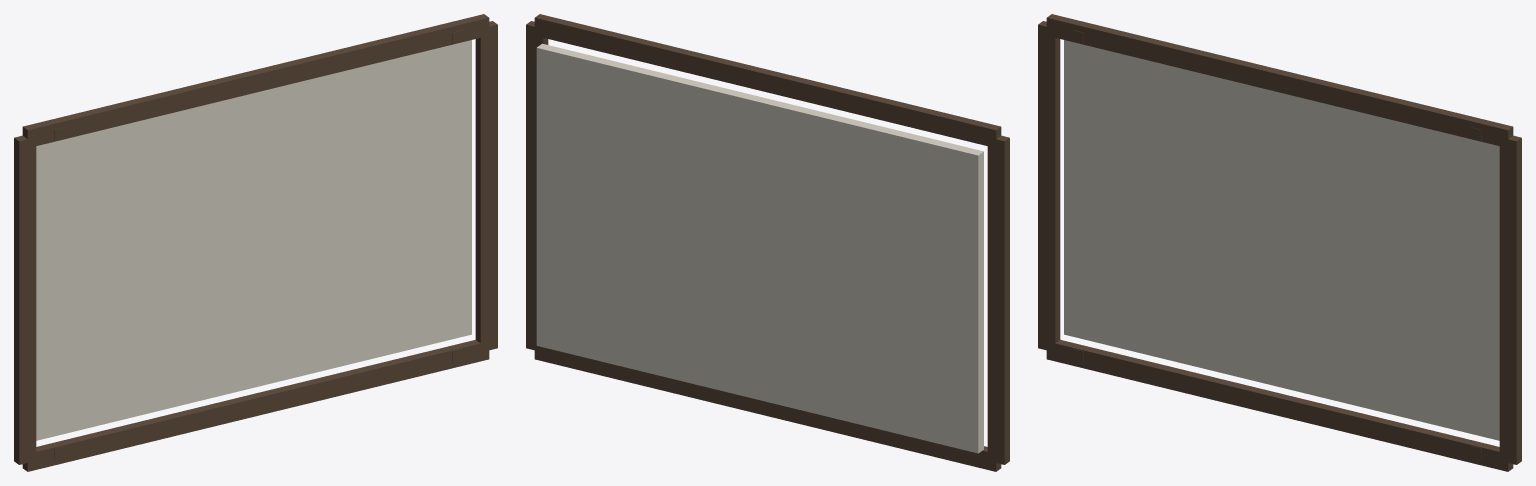
3 views of the same model, side by side, from view 1: azimuth 30°, elevation 25°; view 2: azimuth 150°, elevation 25°; view 3: azimuth 330°, elevation 25° (orthographic).
Visible parts, largest first — view 1: information-back, doorplate-outer-bottom, doorplate-outer-top, doorplate-outer-left, doorplate-outer-right, doorplate-step-top; view 2: information-back, doorplate-outer-top, doorplate-outer-left, doorplate-outer-bottom, doorplate-step-top, doorplate-outer-right; view 3: information-back, doorplate-outer-bottom, doorplate-outer-top, doorplate-outer-left, doorplate-outer-right, doorplate-step-top.
Part boxes in pixels (left/top/right/bottom): information-back: left=36, top=40, right=471, bottom=440; doorplate-outer-bottom: left=22, top=340, right=489, bottom=471; doorplate-outer-top: left=22, top=14, right=489, bottom=147; doorplate-outer-left: left=14, top=135, right=36, bottom=464; doorplate-outer-right: left=475, top=21, right=497, bottom=351; doorplate-step-top: left=42, top=26, right=474, bottom=144; information-back: left=536, top=43, right=983, bottom=453; doorplate-outer-top: left=534, top=14, right=1001, bottom=147; doorplate-outer-left: left=987, top=135, right=1009, bottom=464; doorplate-outer-bottom: left=534, top=341, right=1001, bottom=471; doorplate-step-top: left=549, top=27, right=981, bottom=144; doorplate-outer-right: left=526, top=21, right=548, bottom=351; information-back: left=1064, top=40, right=1499, bottom=440; doorplate-outer-bottom: left=1046, top=340, right=1513, bottom=471; doorplate-outer-top: left=1046, top=14, right=1513, bottom=147; doorplate-outer-left: left=1038, top=21, right=1060, bottom=351; doorplate-outer-right: left=1499, top=135, right=1521, bottom=464; doorplate-step-top: left=1061, top=27, right=1493, bottom=144.
Size of the model in its own units: 0.975 by 0.665 by 0.047.
